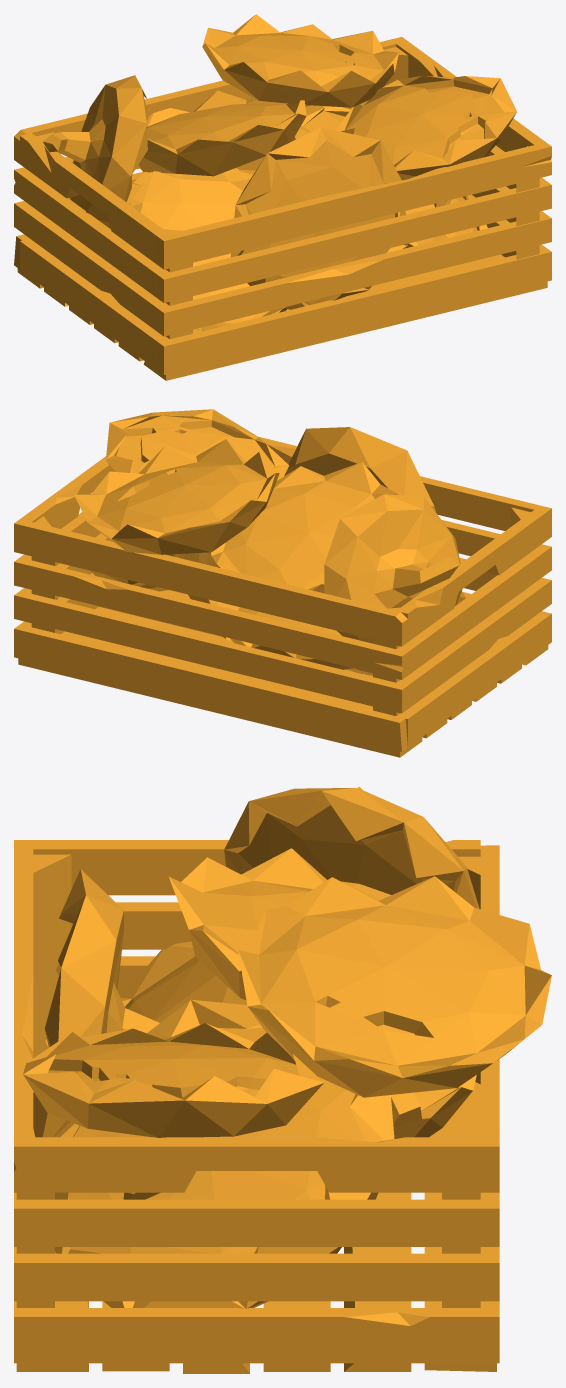
File: SM_Crate_Wood_Medium_Sunflower_Heads.fbx
The picture shows the model from 3 angles, top to bottom: view 1: azimuth 30°, elevation 25°; view 2: azimuth 150°, elevation 25°; view 3: azimuth 270°, elevation 25°; orthographic projection. The views are drawn at different scales.
Visible parts, largest first — view 1: crate-wood-medium-sunflower-heads; view 2: crate-wood-medium-sunflower-heads; view 3: crate-wood-medium-sunflower-heads.
Boxes of the visible parts, x1,y1,x2,y2 form: crate-wood-medium-sunflower-heads: (14, 14, 551, 380); crate-wood-medium-sunflower-heads: (14, 409, 551, 757); crate-wood-medium-sunflower-heads: (14, 786, 551, 1373).
Bounding box in the file's own units: 0.6316 × 0.3092 × 0.45.
